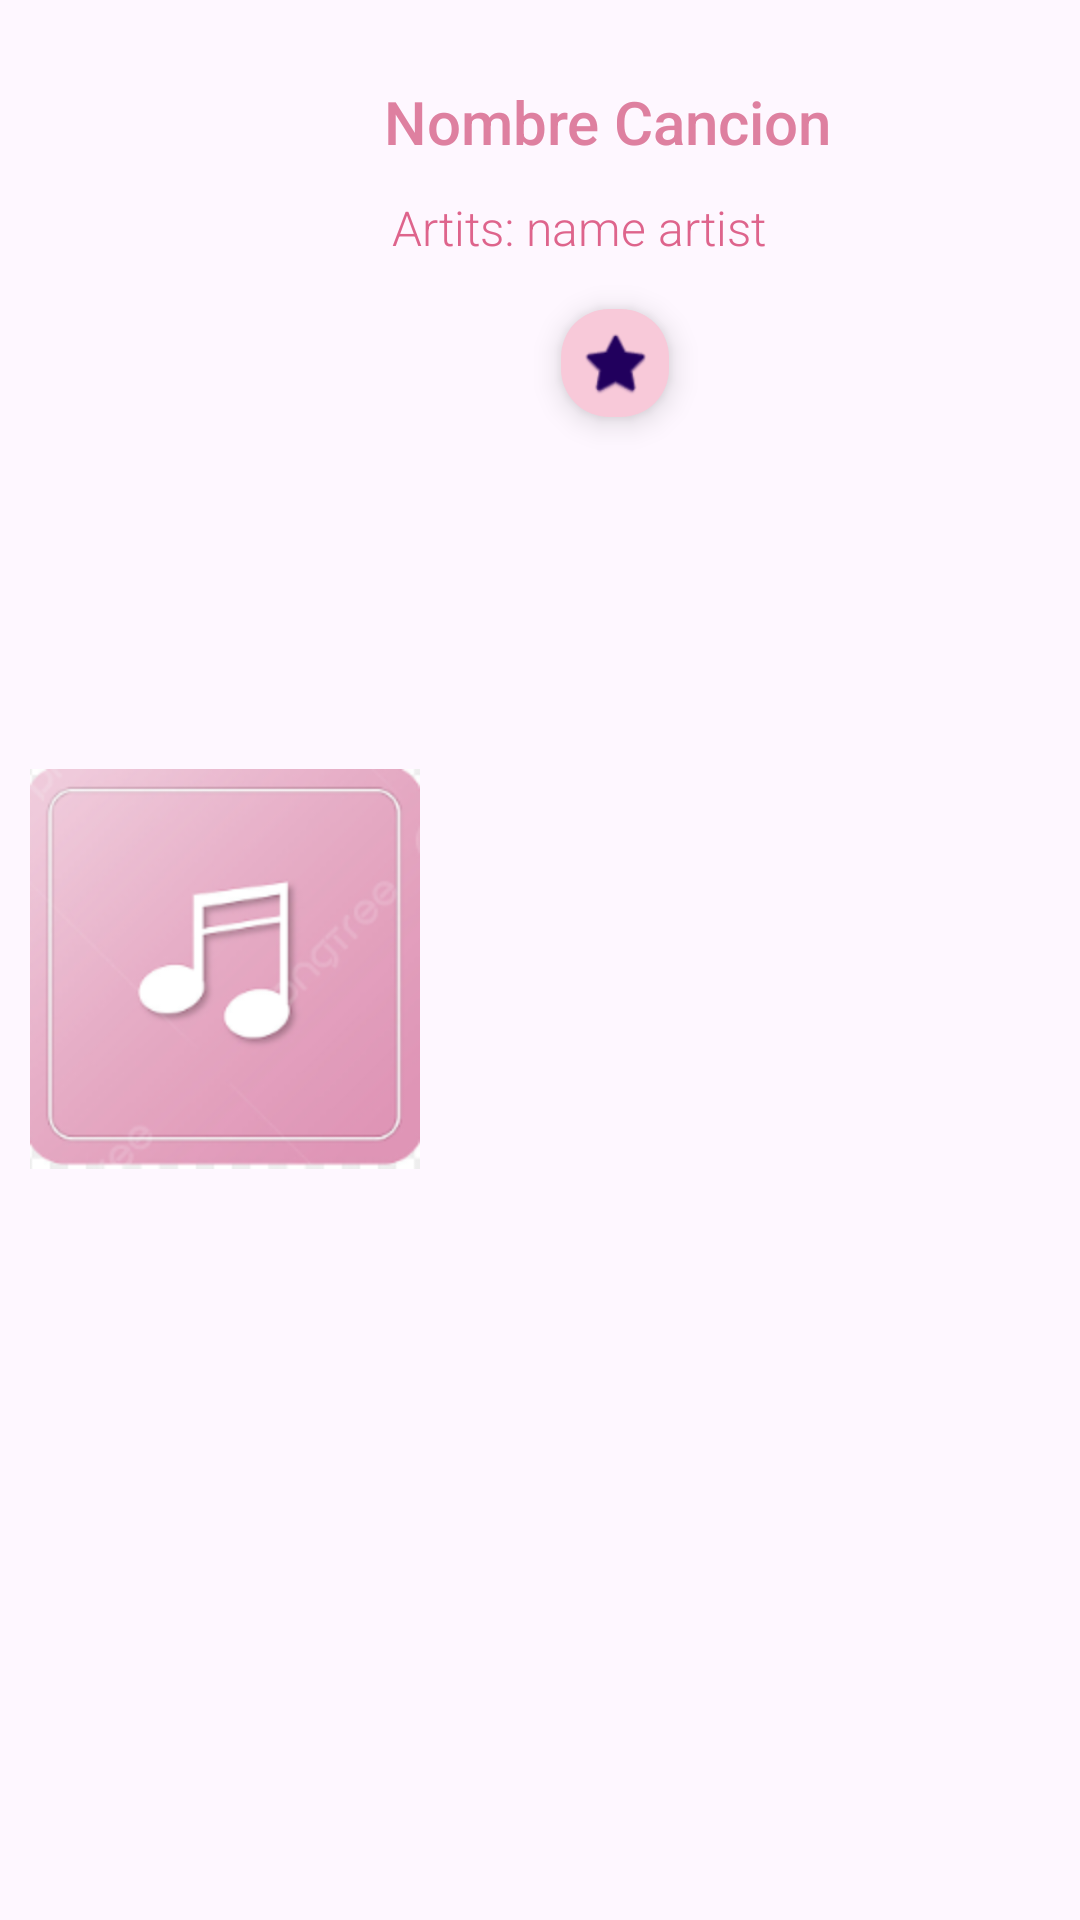

Where icons sit on this 1080px x 1920px app screen, as (x1, y1, x2, y2):
star: (561, 309, 670, 419)
